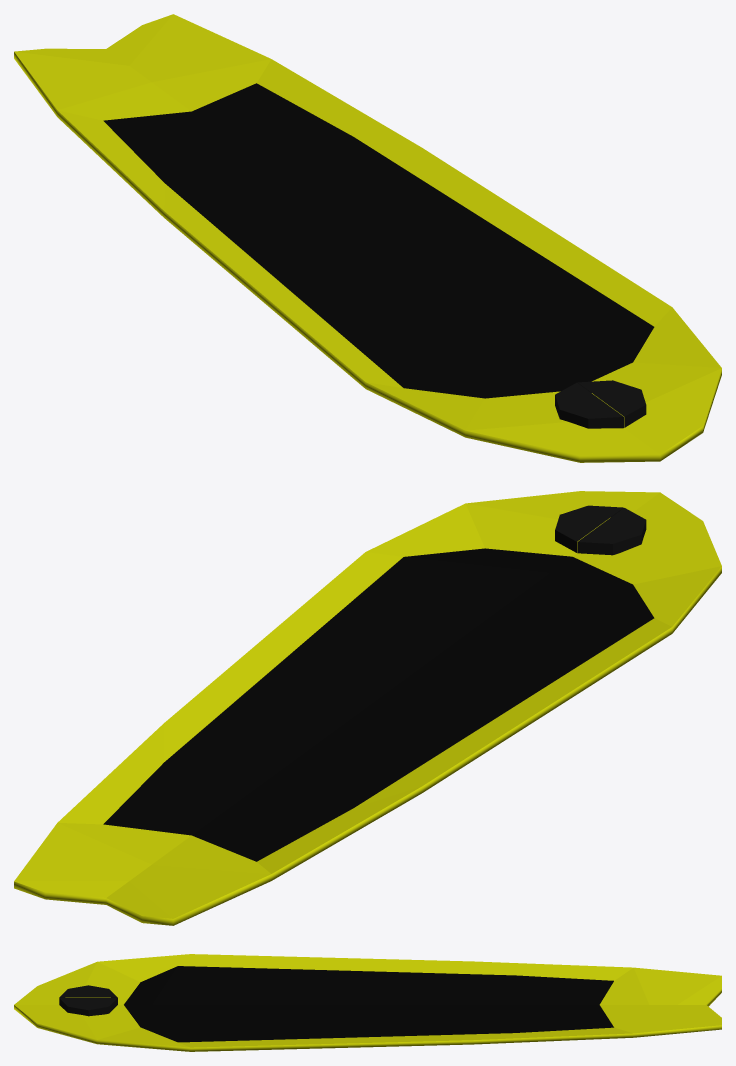
File: board_type_2.fbx
The picture shows the model from 3 angles, top to bottom: view 1: azimuth 30°, elevation 25°; view 2: azimuth 150°, elevation 25°; view 3: azimuth 270°, elevation 25°; orthographic projection. The views are drawn at different scales.
Parts seen in each view (by area): view 1: Board_Type_2; view 2: Board_Type_2; view 3: Board_Type_2.
Boxes of the visible parts, x1=… form: Board_Type_2: x1=14, y1=14, x2=721, y2=462; Board_Type_2: x1=14, y1=491, x2=721, y2=925; Board_Type_2: x1=14, y1=954, x2=721, y2=1051.
Bounding box in the file's own units: 167 × 9.5 × 535.
